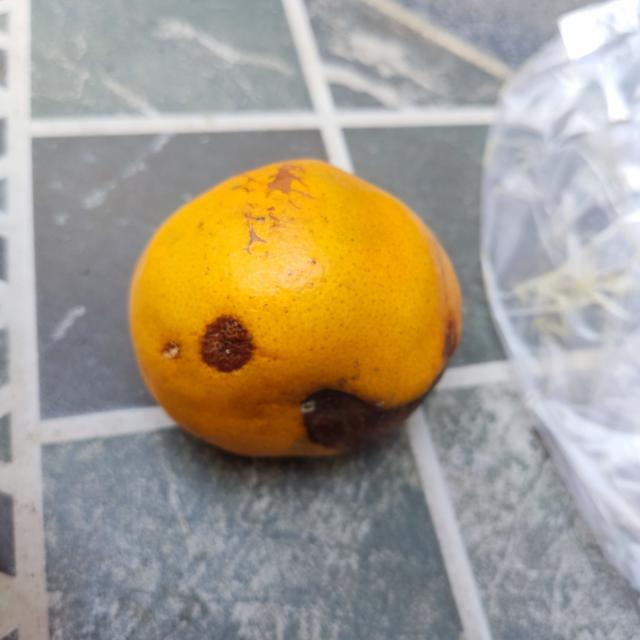orange: (127, 157, 464, 464)
